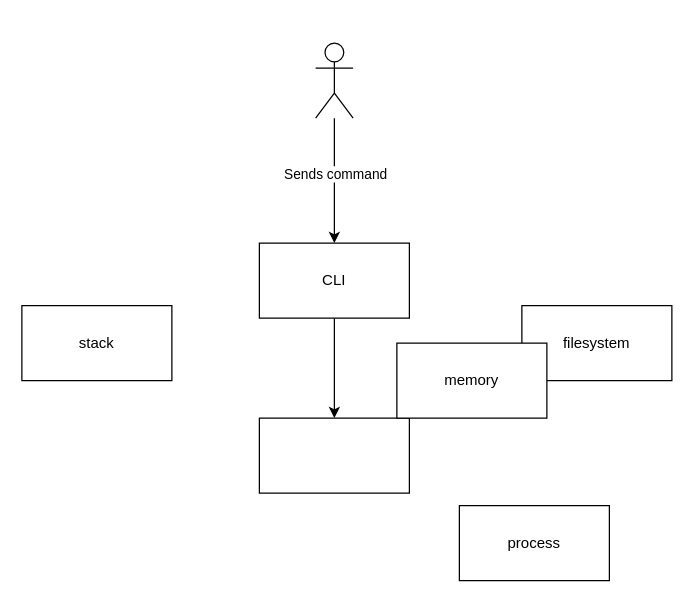
Some shapes in this 694 by 603 pixel diagram are drawn without their labels. The shapes that lost their labels are listed below. From the top down, each one's box as (x1, y1, x2, y2) in pixels, then its label:
(314, 42, 353, 118): User
(258, 417, 409, 493): interpreter
